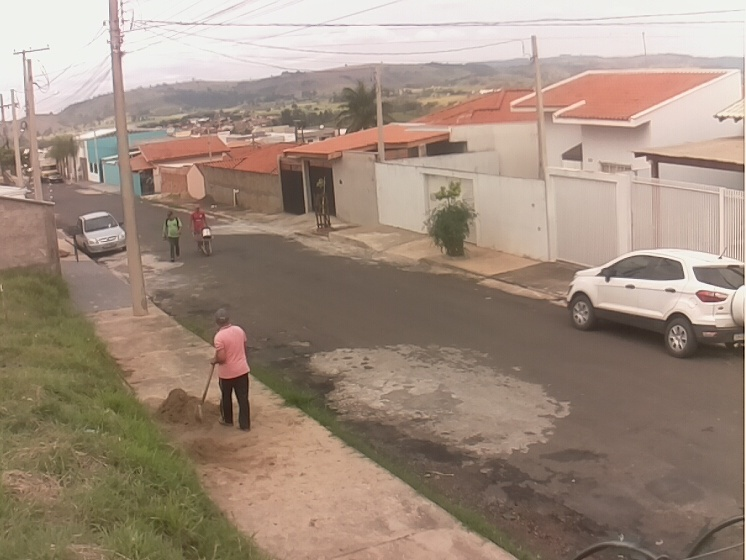person: (209, 308, 253, 433), (162, 210, 183, 263), (188, 205, 208, 236)
